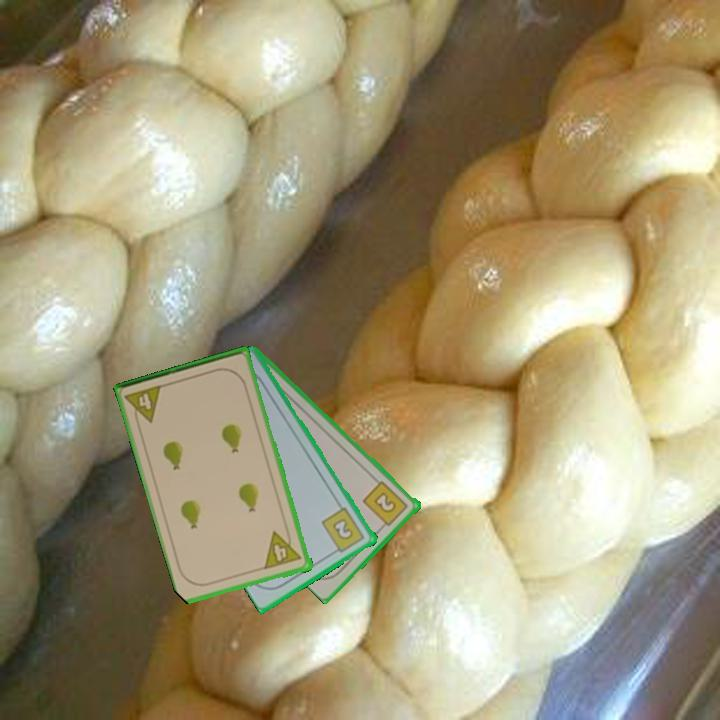2b: (360, 477, 411, 532), (318, 504, 368, 557)
4p: (261, 525, 305, 572), (122, 382, 165, 429)
